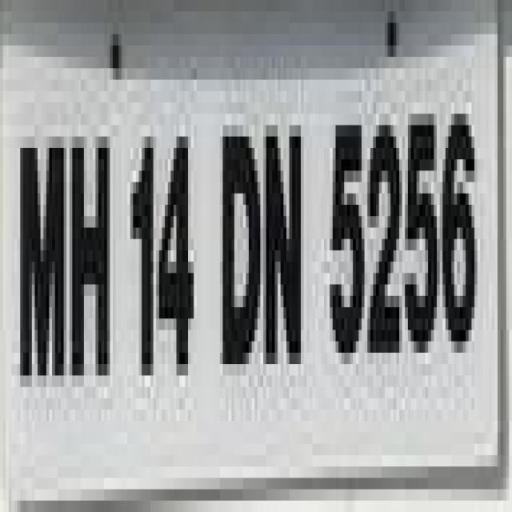number plate: (0, 0, 489, 501)
